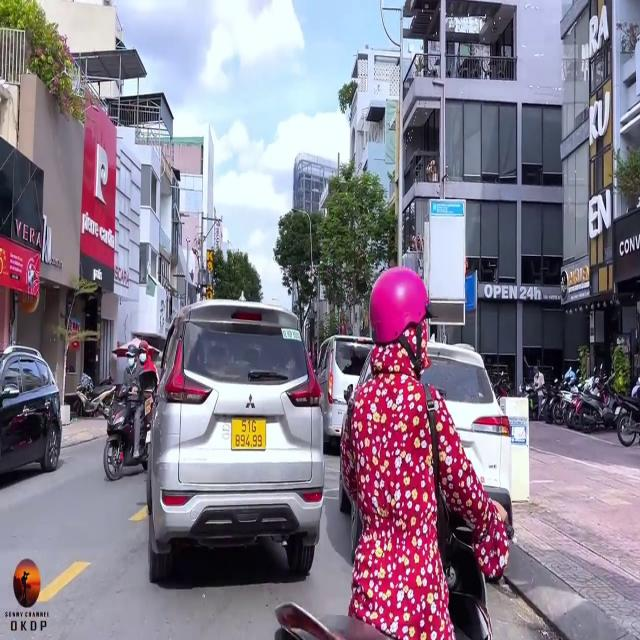bien_vang: (230, 412, 268, 451)
